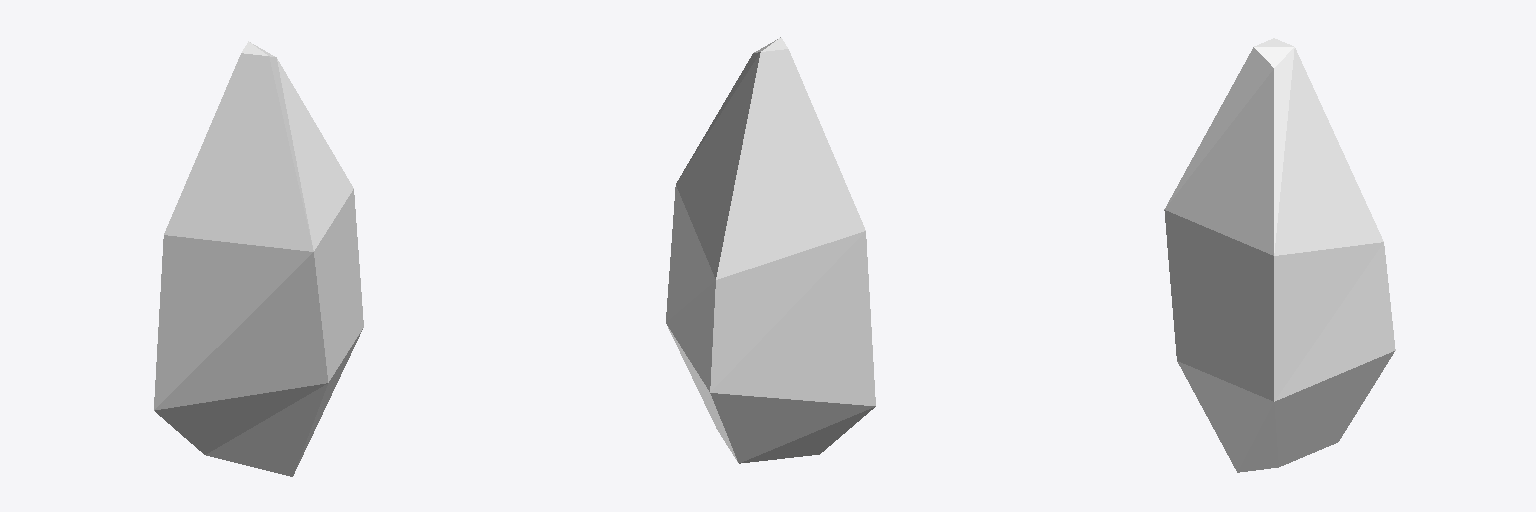
The model's file is FireMolecule.obj.
3 views of the same model, side by side, from view 1: azimuth 30°, elevation 25°; view 2: azimuth 150°, elevation 25°; view 3: azimuth 270°, elevation 25° (orthographic).
Parts seen in each view (by area): view 1: FireMolecule; view 2: FireMolecule; view 3: FireMolecule.
Part boxes in pixels (bbox=[...]): FireMolecule: bbox=[154, 41, 363, 476]; FireMolecule: bbox=[666, 37, 875, 463]; FireMolecule: bbox=[1164, 38, 1395, 472].
Bounding box in the file's own units: 3.91 × 7.43 × 3.72.